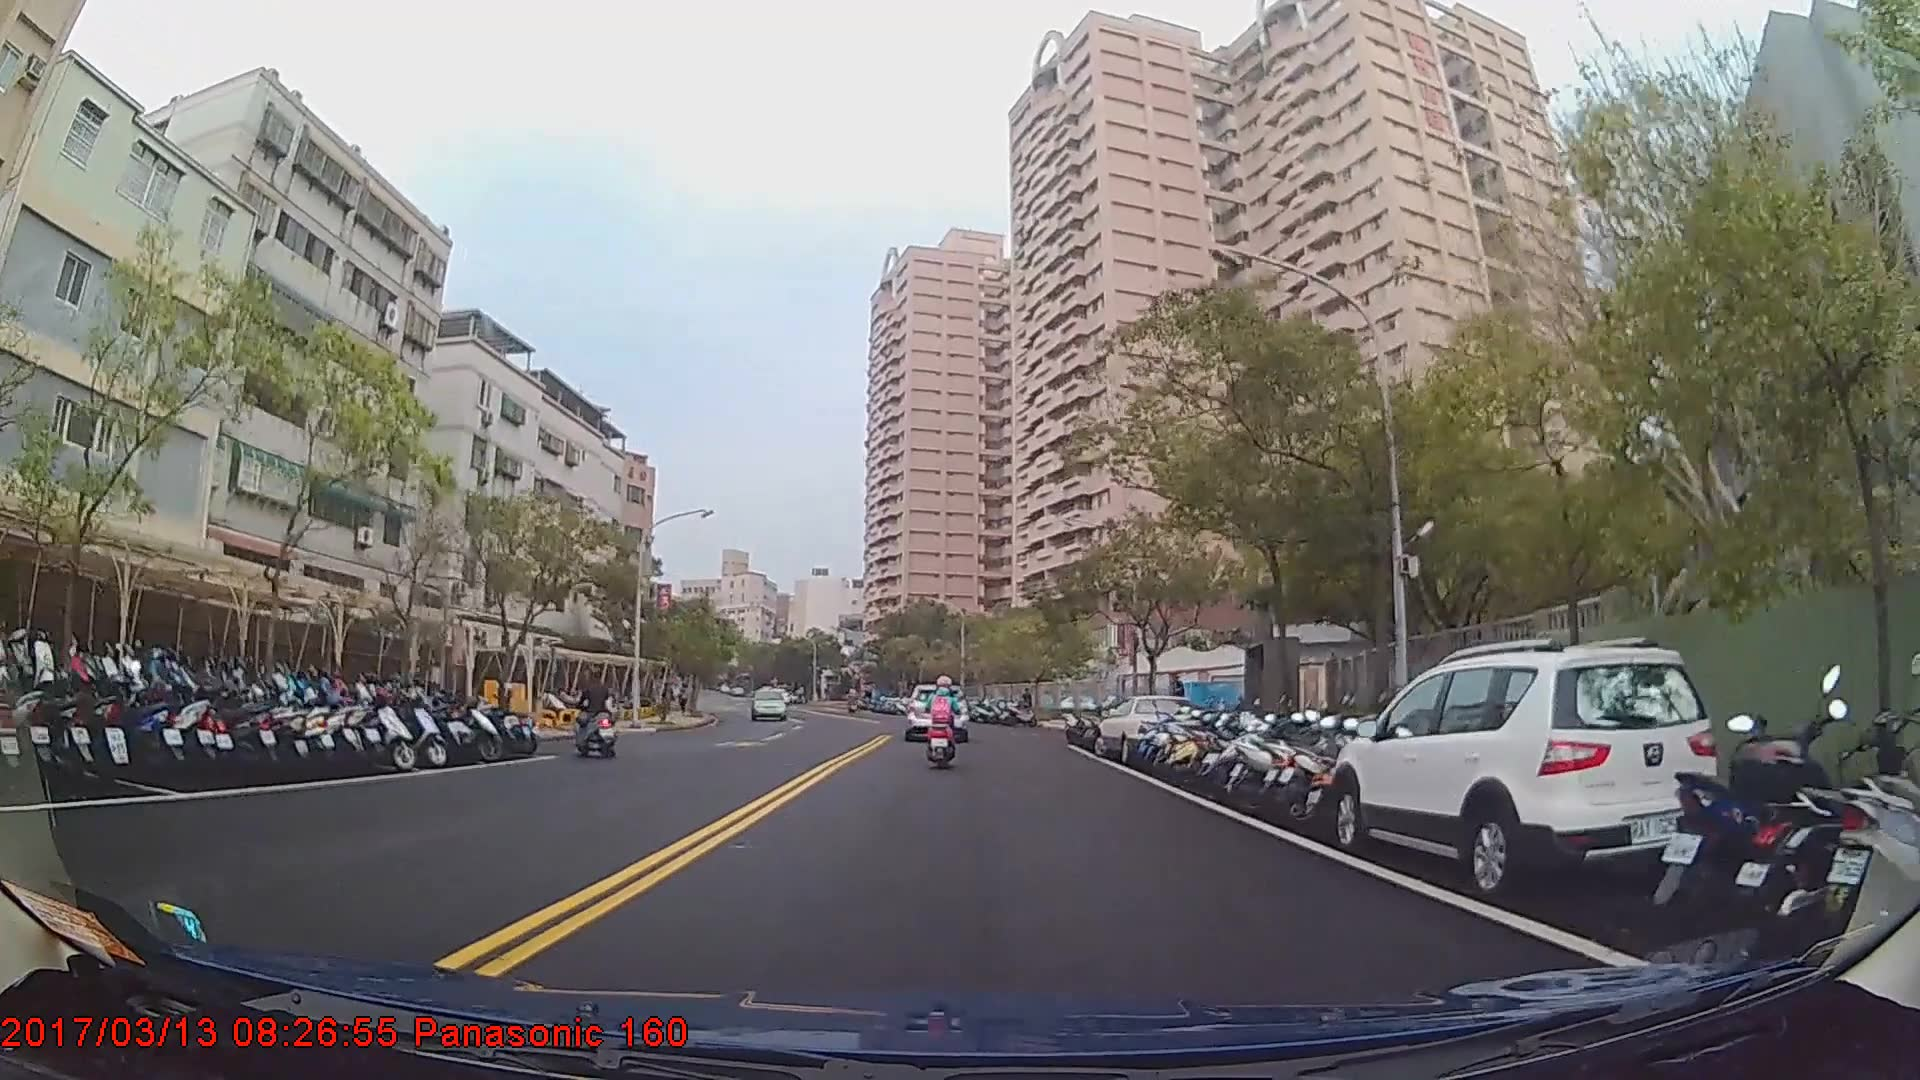rider: (566, 666, 622, 758), (921, 672, 964, 769)
vehicle: (1330, 640, 1721, 900), (1093, 693, 1200, 764), (902, 681, 968, 738), (749, 686, 790, 719)
